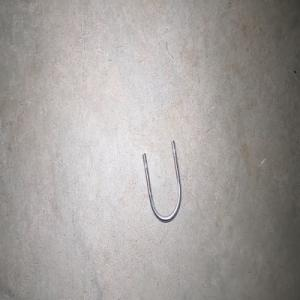ClampPart: (142, 139, 182, 222)
